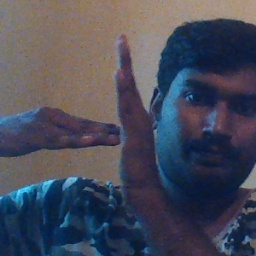Z: (38, 32, 160, 187)
